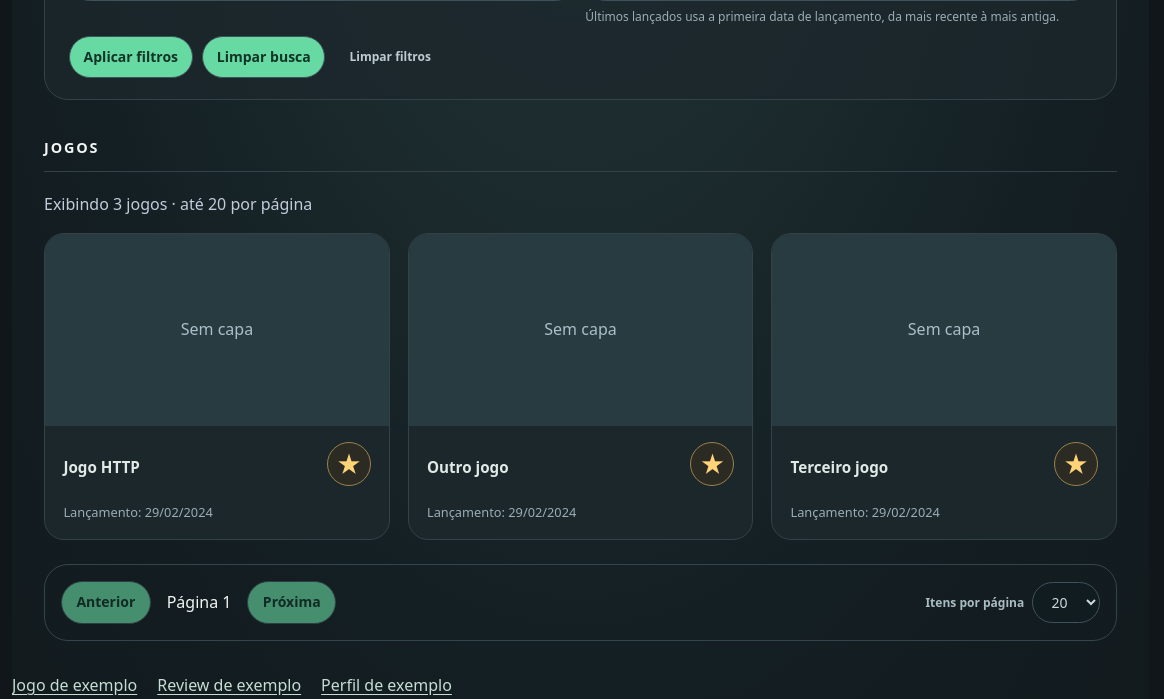
Test: falha de escrita preserva estrela e permite nova tentativa
(page scrolled)
Click the button named "Remover jogo Jogo HTTP dos favoritos": (348, 464) [326,442,370,486]
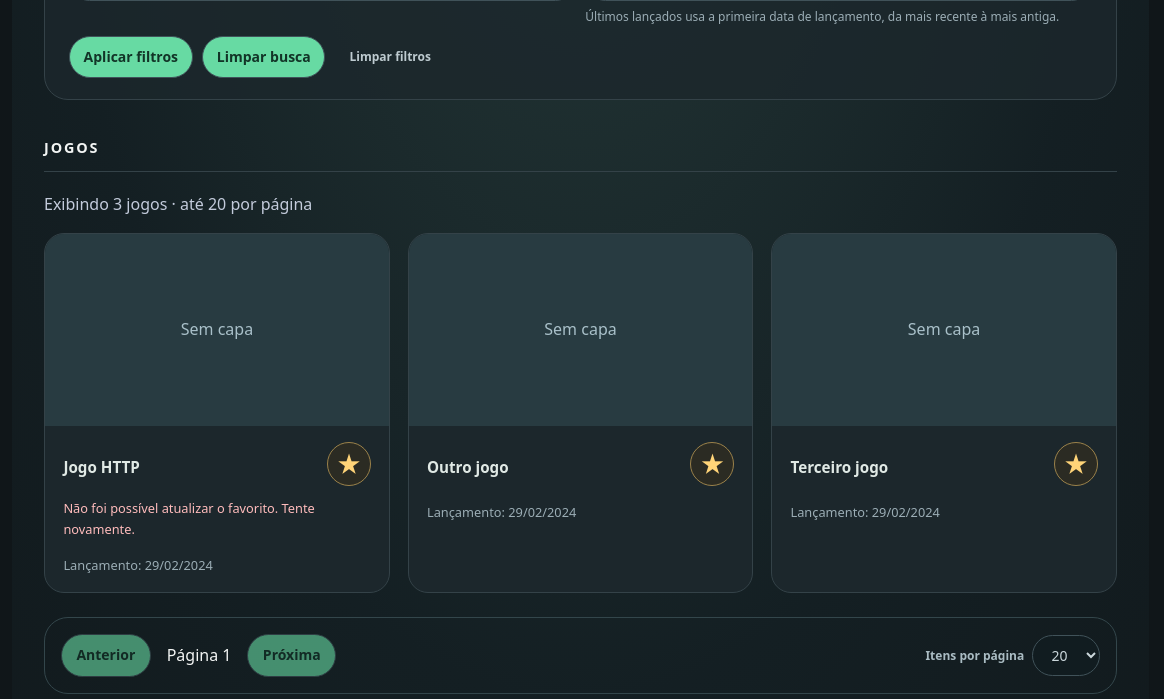
Check: the text "Não foi possível atualizar o favorito. Tente novamente." is shown, box [63,499,315,538]
Click the button named "Remover jogo Jogo HTTP dos favoritos": (348, 464) [326,442,370,486]
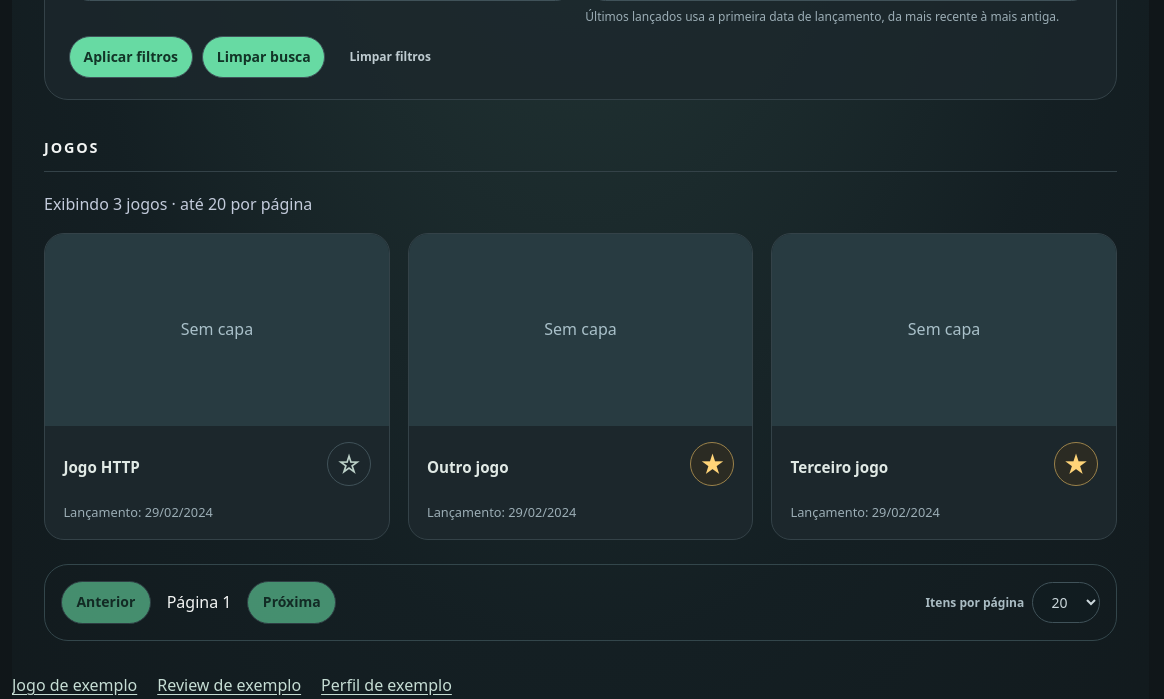
Check: the button named "Favoritar jogo Jogo HTTP" is shown, box [326,442,370,486]
